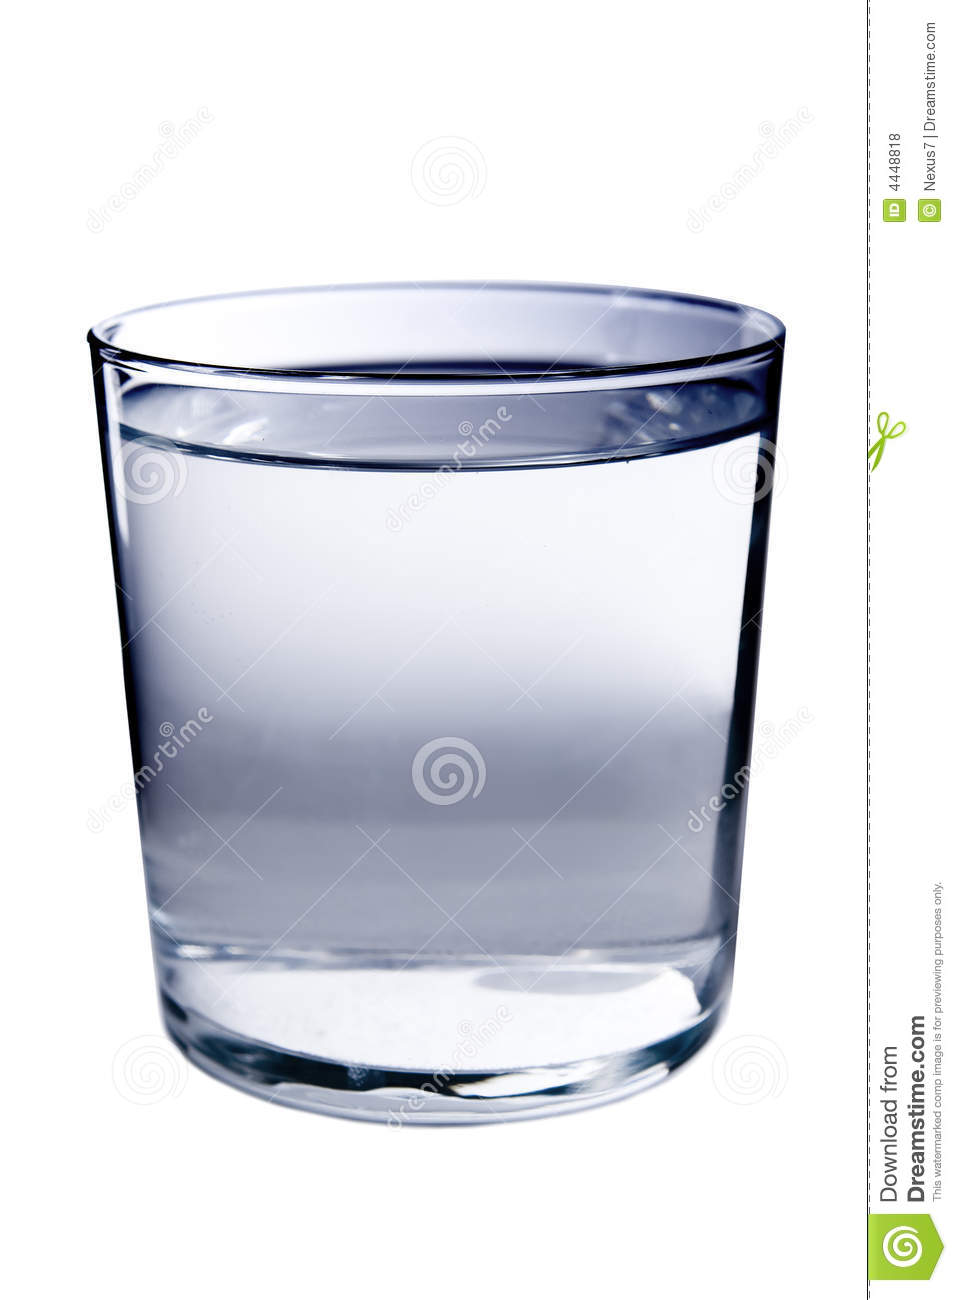glass of water: (125, 340, 734, 1091)
